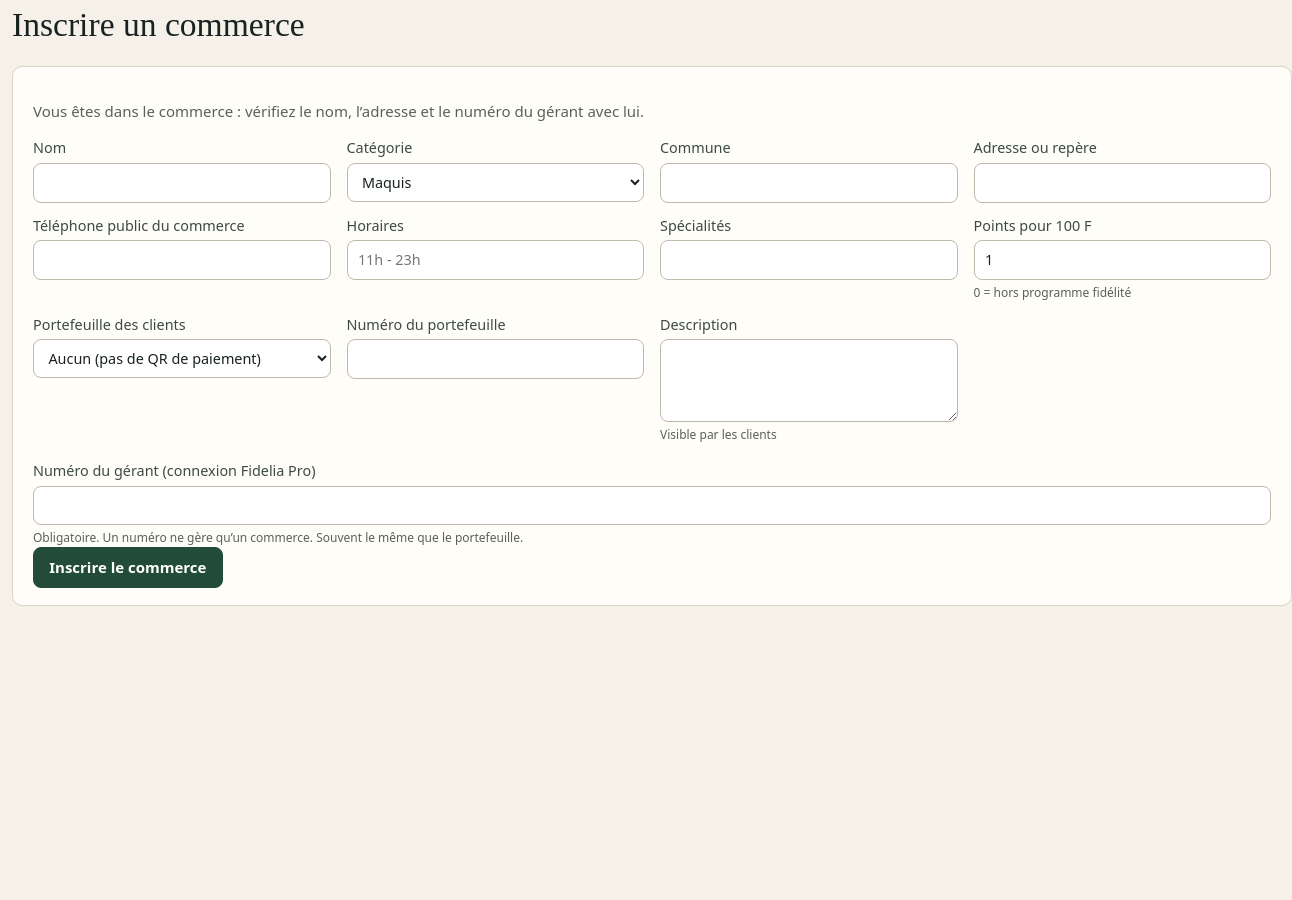
field agent › enrols a shop with its owner number and is told it is live
Type "Superette Agent" into the field labelled "Nom".
click(182, 183); type("Superette Agent")  # box left=33, top=163, right=330, bottom=203
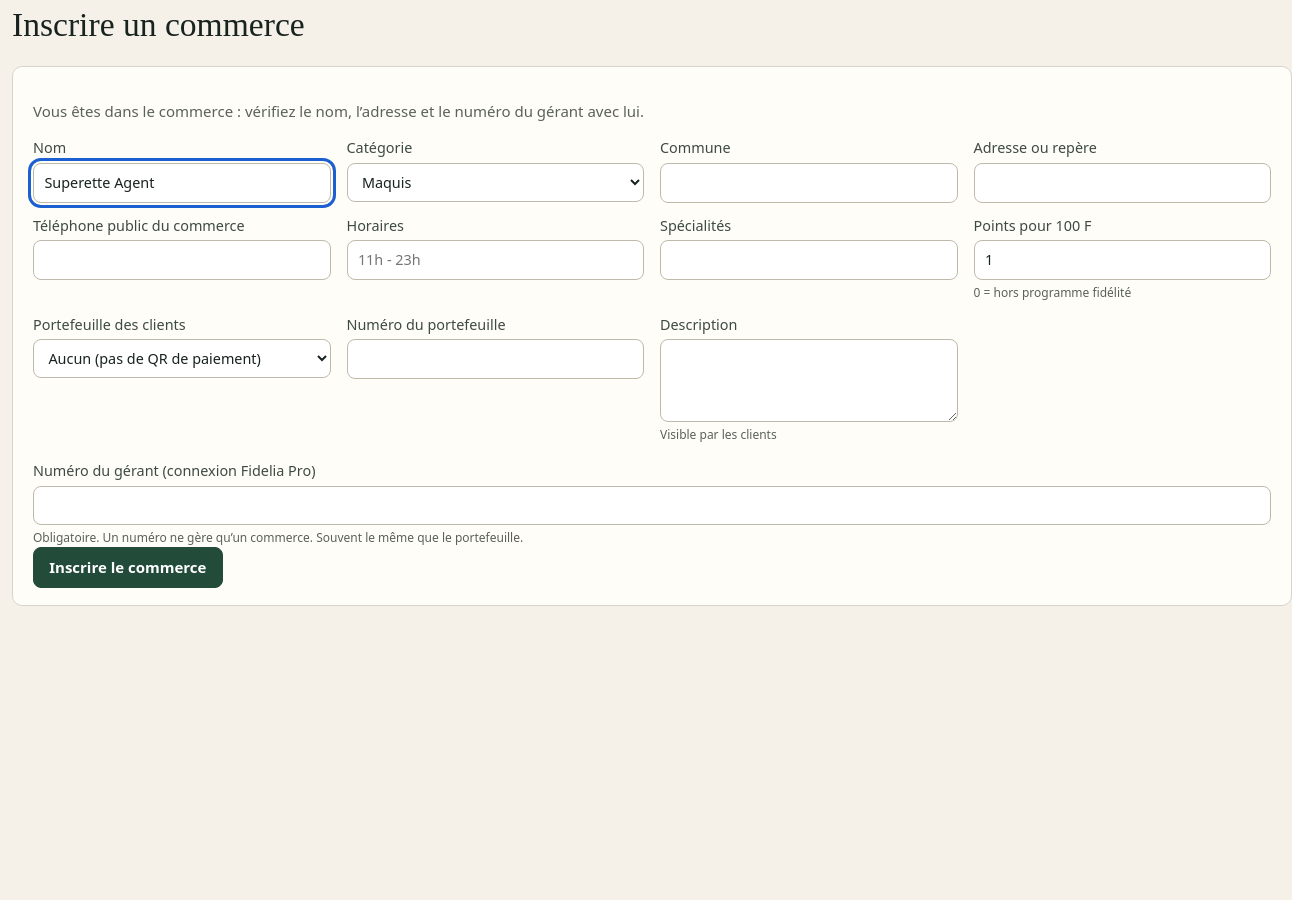
Type "Cocody" into the field labelled "Commune".
click(809, 183); type("Cocody")  # box left=660, top=163, right=958, bottom=203
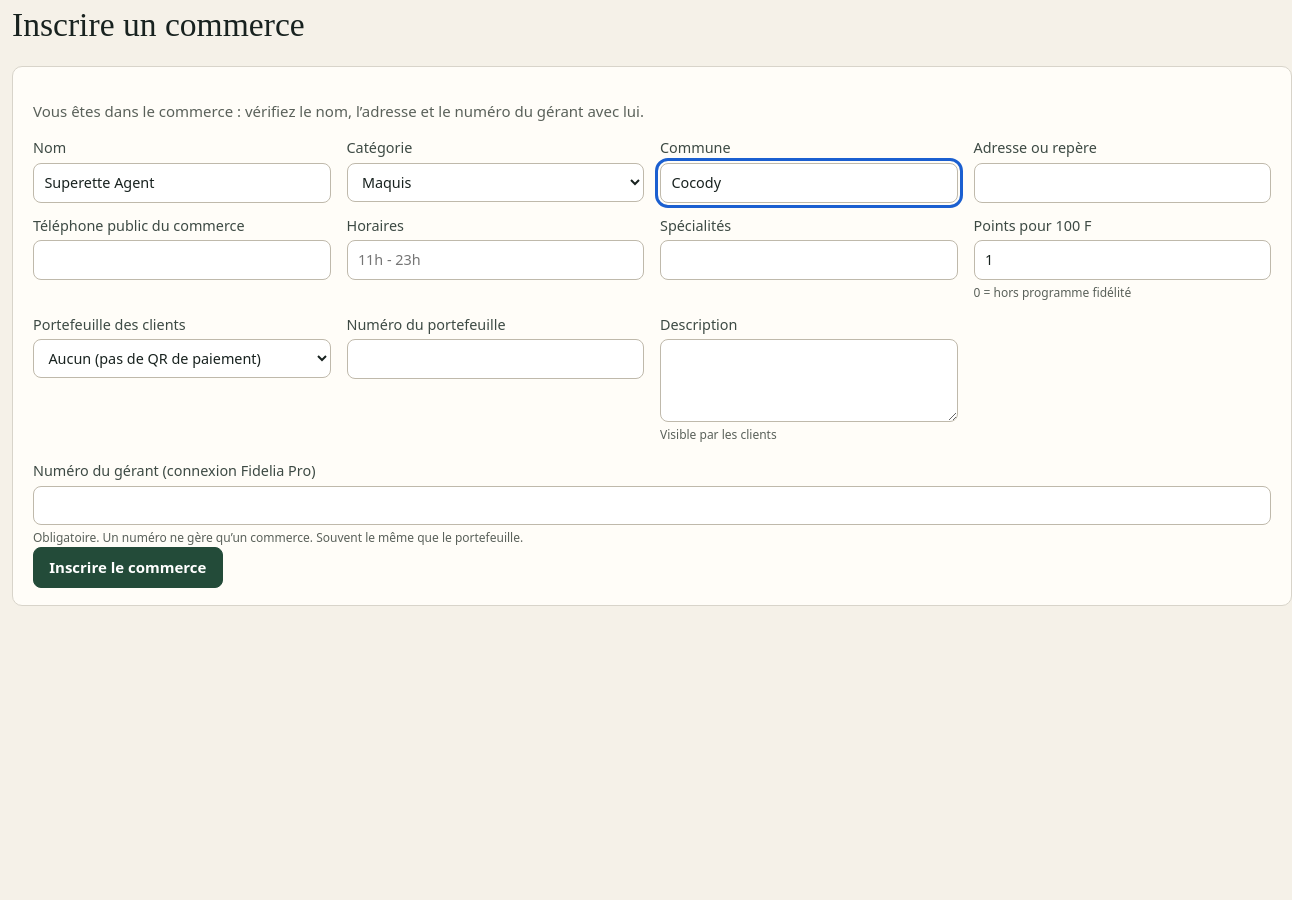
Type "0777777777" into the field labelled "Numéro du gérant".
click(652, 506); type("0777777777")  # box left=33, top=486, right=1271, bottom=525
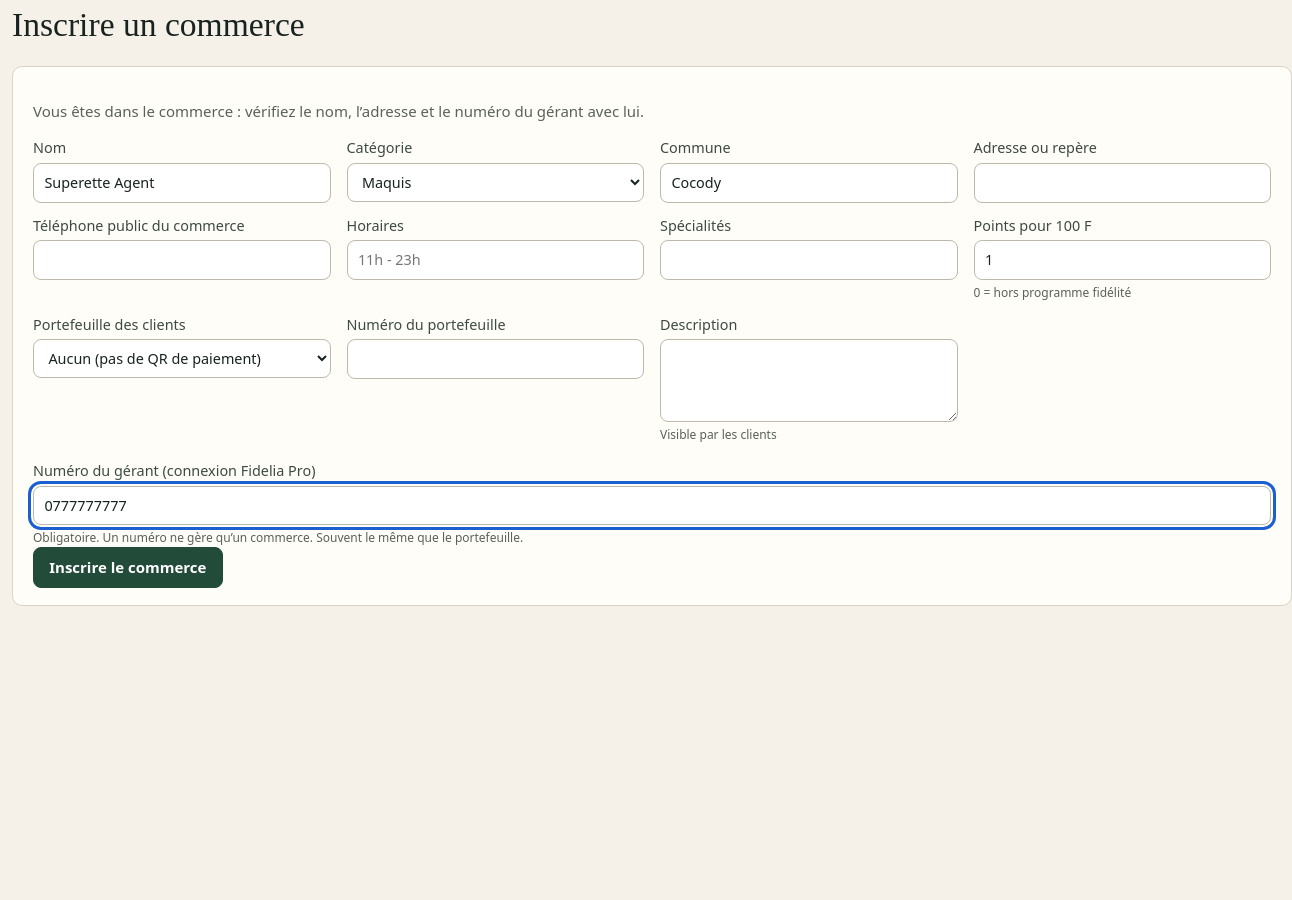
Click the button "Inscrire le commerce".
click(128, 568)  # box left=33, top=547, right=223, bottom=588
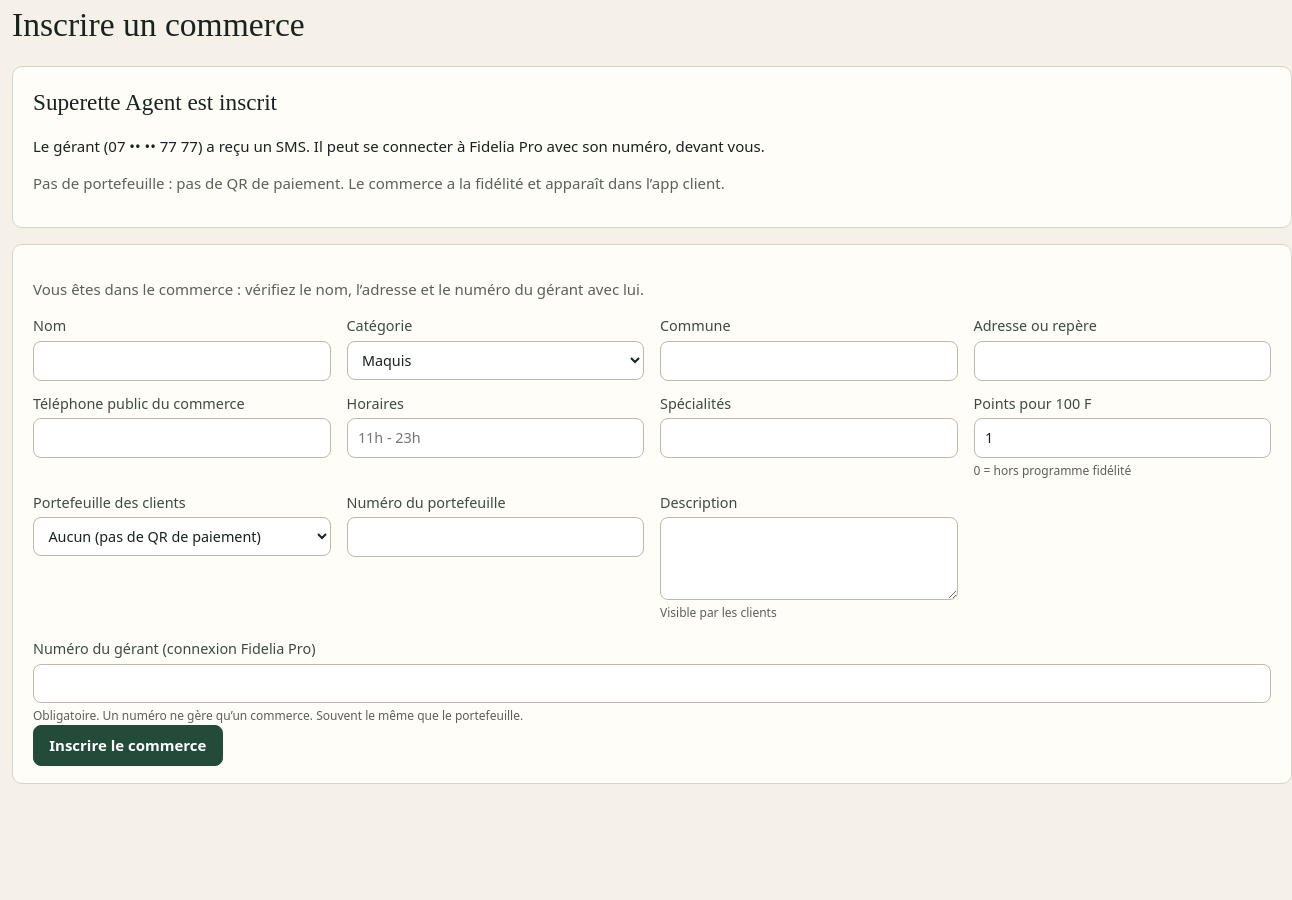
Now the heading "Superette Agent est inscrit" is shown, box left=33, top=89, right=277, bottom=115
Now the text "07 •• •• 77 77" is shown, box left=108, top=136, right=198, bottom=156
